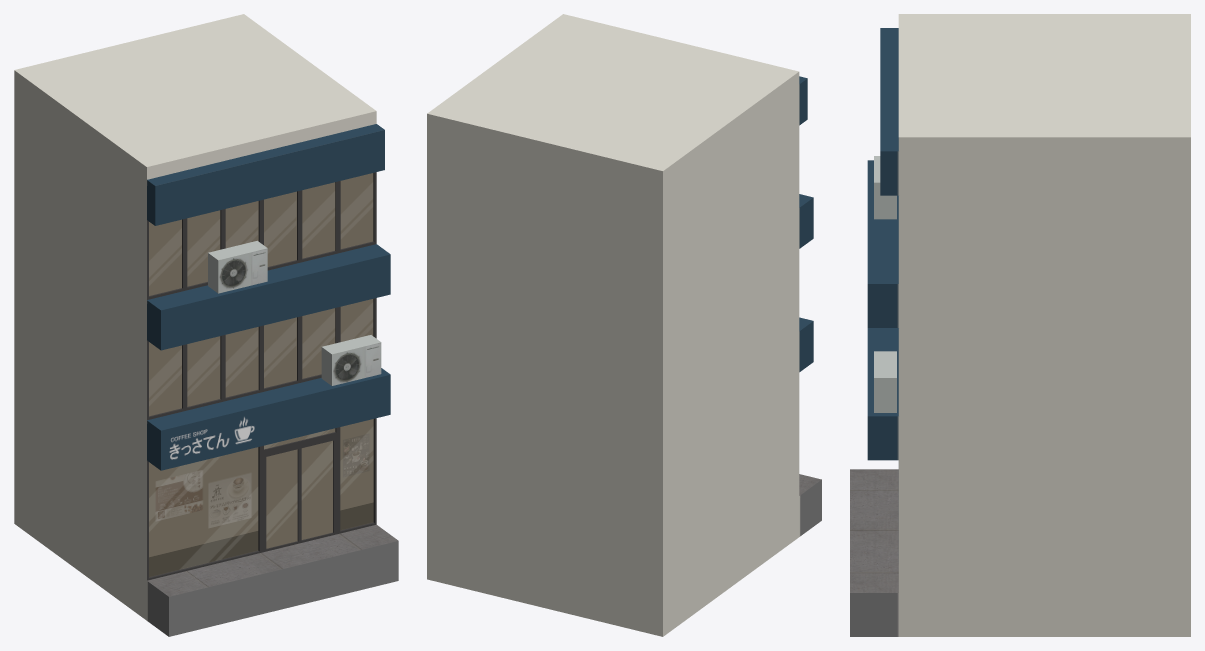
File: mini_building02.dae
3 renders of one model, left to right at view 1: azimuth 30°, elevation 25°; view 2: azimuth 150°, elevation 25°; view 3: azimuth 270°, elevation 25°, orthographic. The views are drawn at different scales.
Parts seen in each view (by area): view 1: building02, compressor03, compressor04; view 2: building02; view 3: building02, compressor04, compressor03.
Part boxes in pixels (box(x1,y1,x2,y2)): building02: box(14, 14, 398, 636); compressor03: box(208, 240, 267, 293); compressor04: box(321, 335, 381, 385); building02: box(427, 14, 821, 636); building02: box(850, 14, 1190, 636); compressor04: box(874, 351, 896, 412); compressor03: box(874, 156, 896, 219).
Bounding box in the file's own units: 6 × 11.32 × 7.
